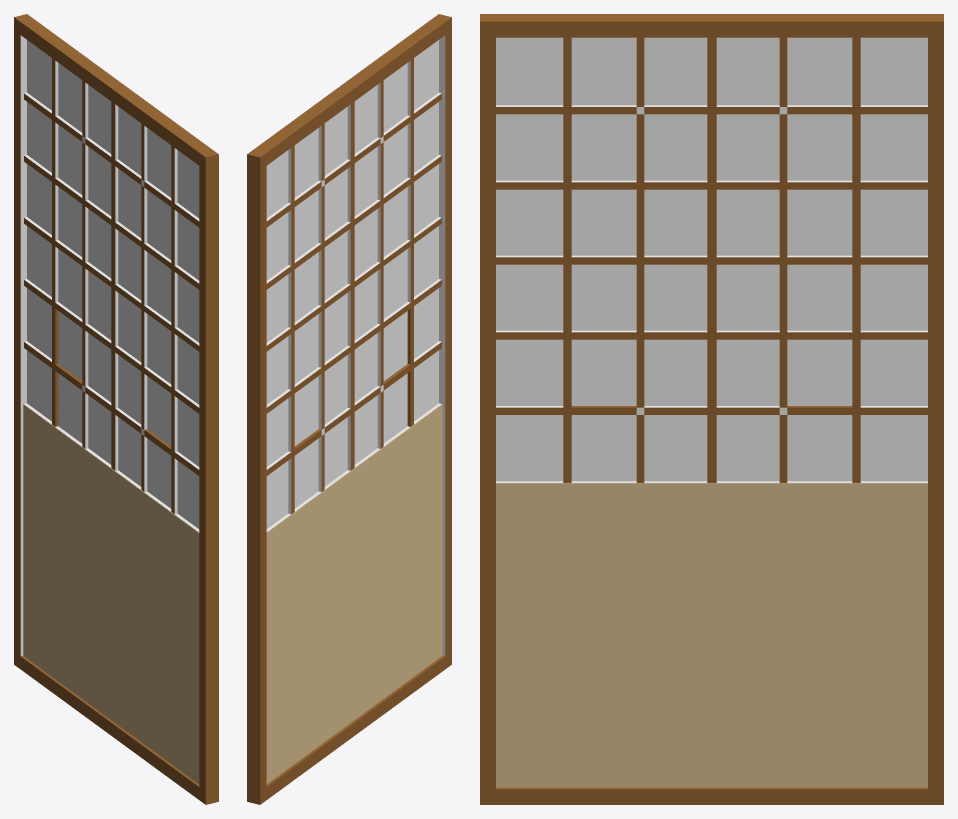
File: しょうじ 1.fbx
The picture shows the model from 3 angles, left to right: view 1: azimuth 30°, elevation 25°; view 2: azimuth 150°, elevation 25°; view 3: azimuth 270°, elevation 25°; orthographic projection. The views are drawn at different scales.
Visible parts, largest first — view 1: Cube, 立方体; view 2: Cube, 立方体; view 3: Cube, 立方体.
Part boxes in pixels (x1=…): Cube: x1=14, y1=14, x2=218, y2=804; 立方体: x1=23, y1=404, x2=199, y2=783; Cube: x1=247, y1=14, x2=451, y2=804; 立方体: x1=266, y1=404, x2=442, y2=783; Cube: x1=480, y1=14, x2=943, y2=804; 立方体: x1=496, y1=483, x2=927, y2=787.
Size of the model in its own units: 21.64 by 1021 by 548.
